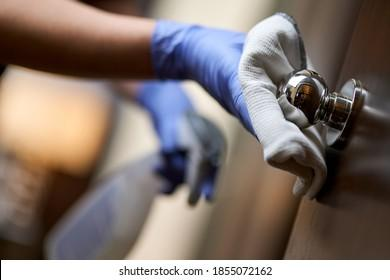gloves: (154, 19, 260, 140), (138, 81, 224, 204)
